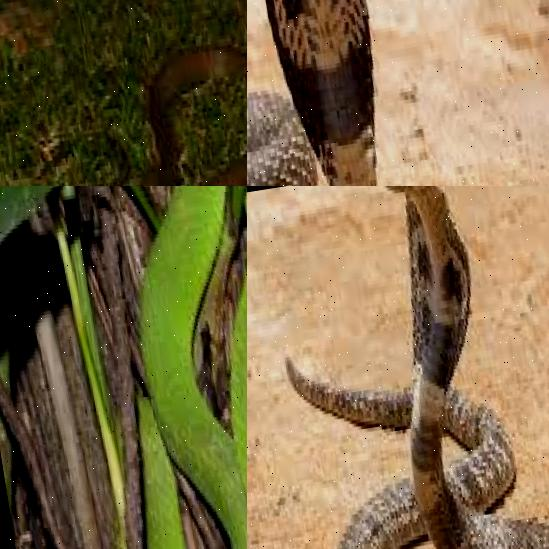snake: (251, 186, 549, 549), (51, 186, 247, 549), (0, 0, 247, 186), (247, 0, 476, 186)
